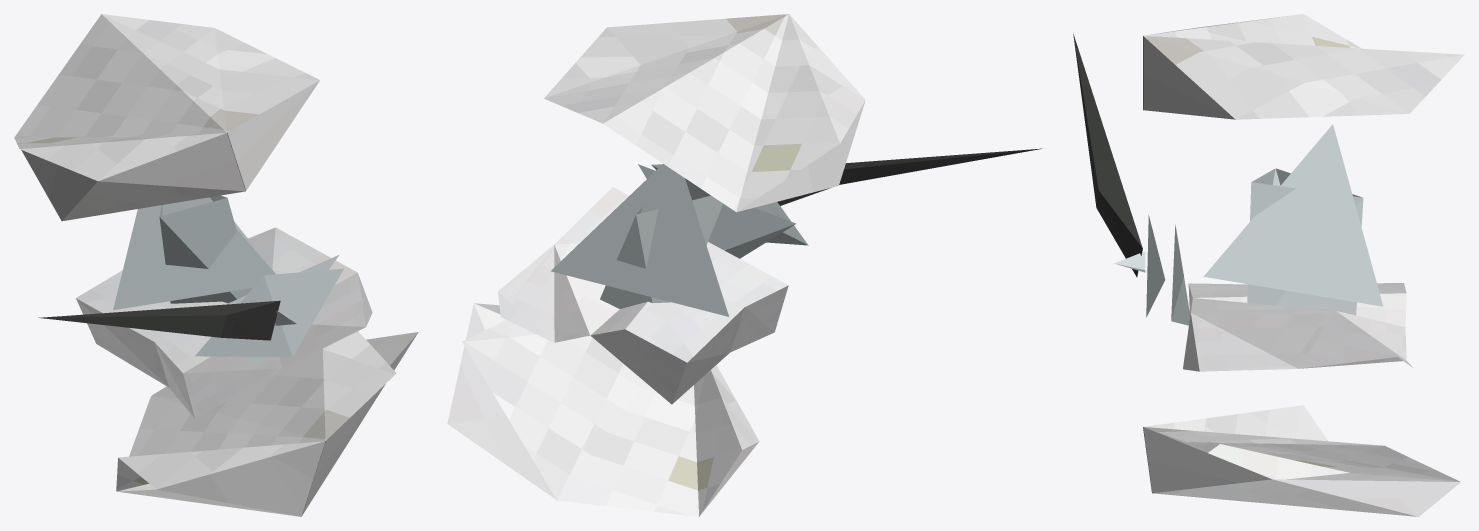
The model's file is qyk005-geode.glb.
The picture shows the model from 3 angles, left to right: view 1: azimuth 30°, elevation 25°; view 2: azimuth 150°, elevation 25°; view 3: azimuth 270°, elevation 25°; orthographic projection. The views are drawn at different scales.
Visible parts, largest first — view 1: Node; view 2: Node; view 3: Node.
Boxes of the visible parts, box(x1,y1,x2,y2) form: Node: box(14, 14, 418, 516); Node: box(447, 14, 1042, 516); Node: box(1073, 14, 1464, 516).
Bounding box in the file's own units: 0.182 × 0.1566 × 0.1257.
Materials: 1 (1 with a texture image).
